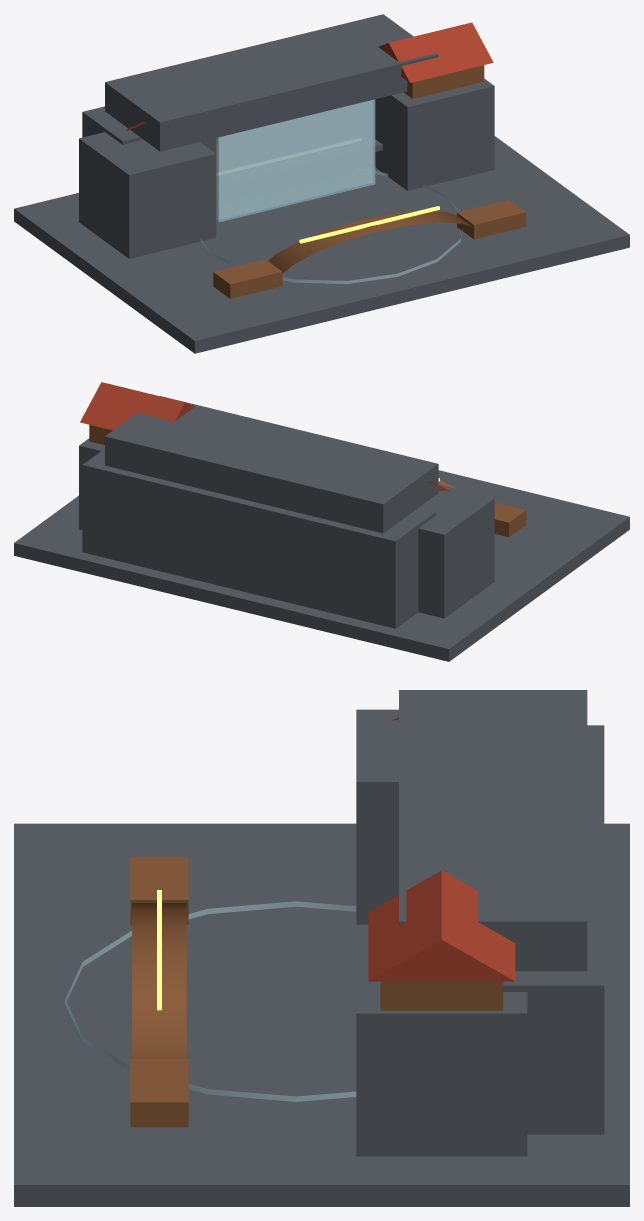
File: lm_26_thac_prenn_bridge_and_teahouse.glb
3 views of the same model, one above another, from view 1: azimuth 30°, elevation 25°; view 2: azimuth 150°, elevation 25°; view 3: azimuth 270°, elevation 25° (orthographic). The views are drawn at different scales.
Parts seen in each view (by area): view 1: Basalt_Overhang_And_Grotto_Walkway, Waterfall_Curtain_And_Pool, Arched_Timber_Bridge_And_Teahouse, Teahouse_And_Gazebo_Roofs, Grotto_And_Bridge_Lanterns; view 2: Basalt_Overhang_And_Grotto_Walkway, Teahouse_And_Gazebo_Roofs, Arched_Timber_Bridge_And_Teahouse; view 3: Basalt_Overhang_And_Grotto_Walkway, Arched_Timber_Bridge_And_Teahouse, Teahouse_And_Gazebo_Roofs, Waterfall_Curtain_And_Pool.
Boxes of the visible parts, x1,y1,x2,y2 form: Basalt_Overhang_And_Grotto_Walkway: (14, 14, 629, 353); Waterfall_Curtain_And_Pool: (200, 99, 462, 283); Arched_Timber_Bridge_And_Teahouse: (213, 65, 526, 298); Teahouse_And_Gazebo_Roofs: (126, 22, 493, 130); Grotto_And_Bridge_Lanterns: (299, 206, 439, 243); Basalt_Overhang_And_Grotto_Walkway: (14, 396, 629, 661); Teahouse_And_Gazebo_Roofs: (80, 382, 450, 491); Arched_Timber_Bridge_And_Teahouse: (89, 425, 526, 537); Basalt_Overhang_And_Grotto_Walkway: (14, 690, 629, 1206); Arched_Timber_Bridge_And_Teahouse: (130, 856, 503, 1127); Teahouse_And_Gazebo_Roofs: (368, 717, 515, 981); Waterfall_Curtain_And_Pool: (65, 901, 356, 1101).
Size of the model in its own units: 50 by 15.5 by 36.
